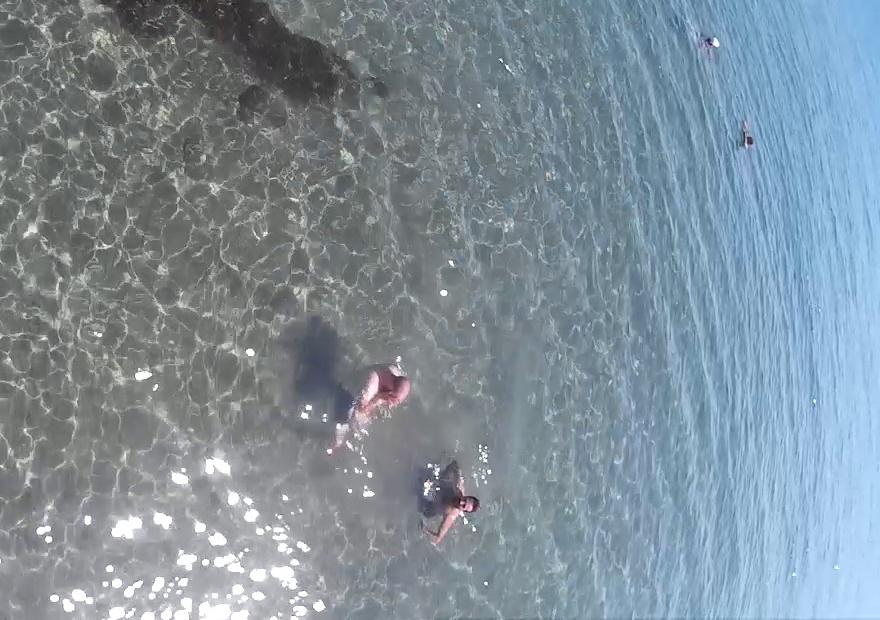human: (333, 337, 407, 458), (423, 448, 484, 563)
